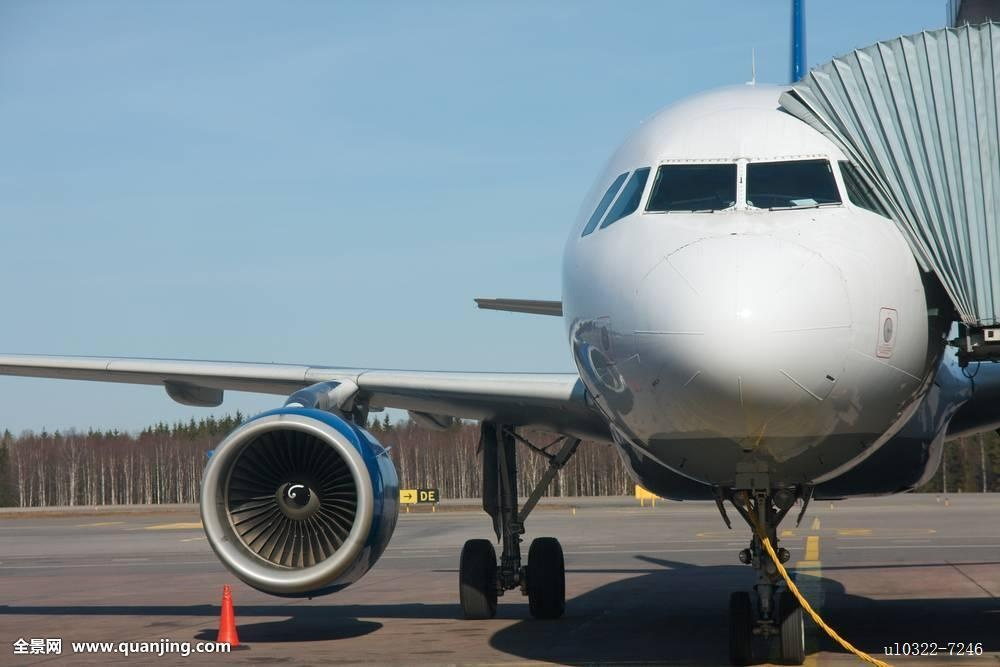airplane: (3, 3, 1000, 622)
